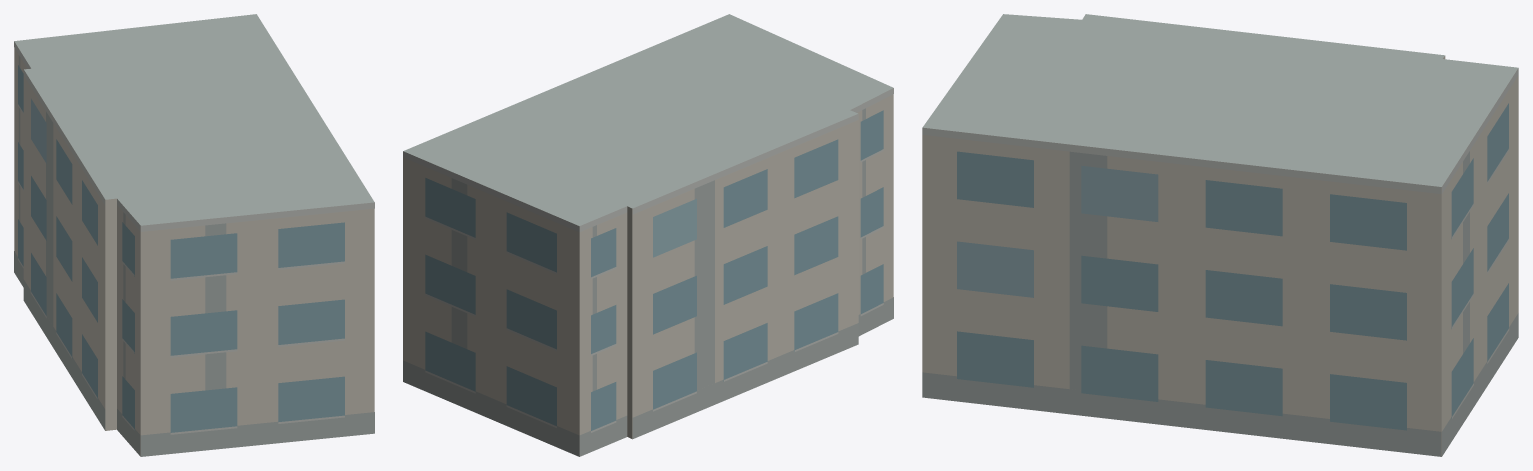
Rendered from residential-dcddccb5-39db-481f-99c4-72da88298aeb.glb.
3 views of the same model, side by side, from view 1: azimuth 30°, elevation 25°; view 2: azimuth 150°, elevation 25°; view 3: azimuth 270°, elevation 25° (orthographic). The views are drawn at different scales.
Visible parts, largest first — view 1: residential-dcddccb5-39db-481f-99c4-72da88298aeb.tmp; view 2: residential-dcddccb5-39db-481f-99c4-72da88298aeb.tmp; view 3: residential-dcddccb5-39db-481f-99c4-72da88298aeb.tmp.
Boxes of the visible parts, x1=… form: residential-dcddccb5-39db-481f-99c4-72da88298aeb.tmp: x1=14, y1=14, x2=374, y2=456; residential-dcddccb5-39db-481f-99c4-72da88298aeb.tmp: x1=403, y1=14, x2=893, y2=456; residential-dcddccb5-39db-481f-99c4-72da88298aeb.tmp: x1=922, y1=14, x2=1518, y2=456.
Size of the model in its own units: 12.59 by 9.15 by 18.33.
